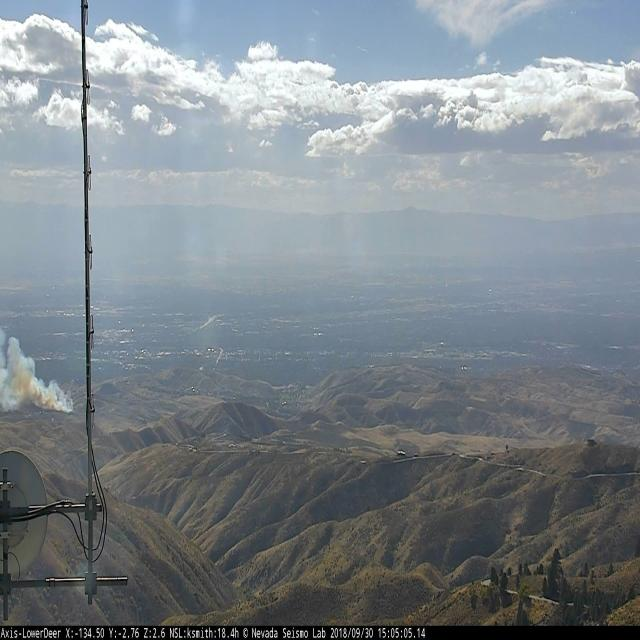smoke: (0, 327, 76, 417)
